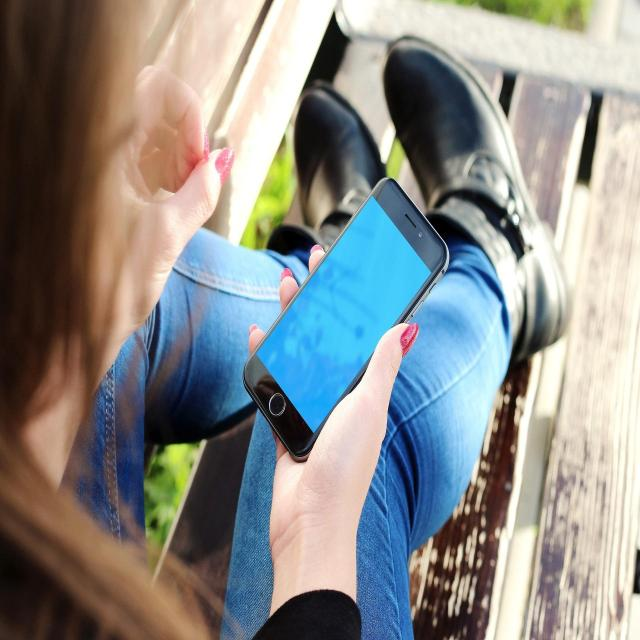Mobile: (228, 170, 451, 467)
